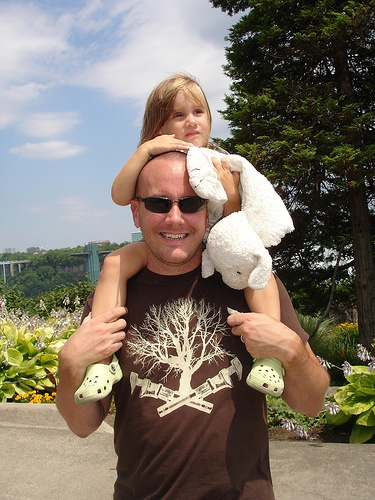head: (129, 150, 210, 267)
